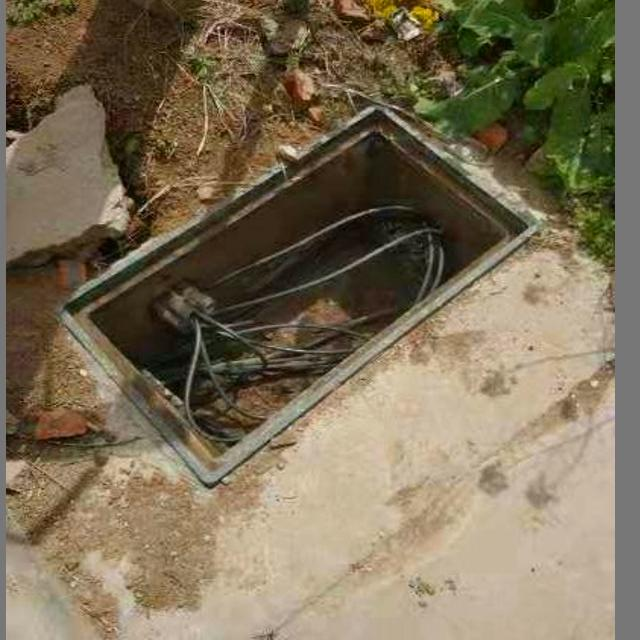lose: (56, 102, 536, 489)
